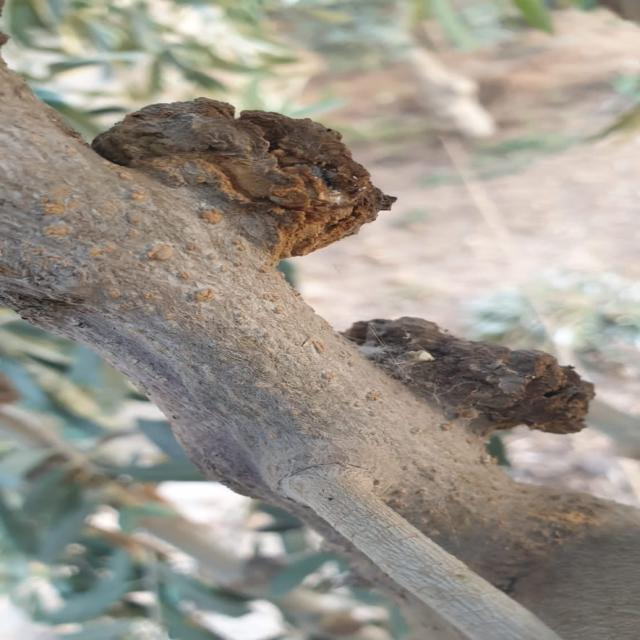Tuberculosis: (92, 98, 396, 263), (346, 317, 594, 464)
